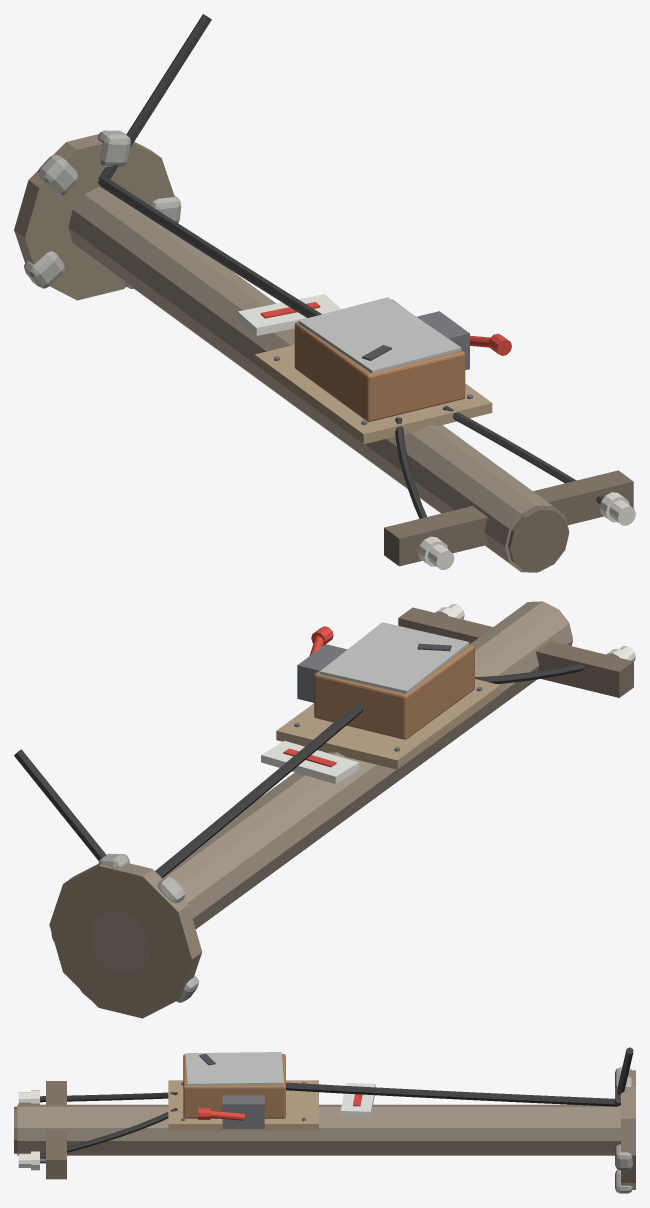
Rendered from extended_terminal.obj.
3 views of the same model, one above another, from view 1: azimuth 30°, elevation 25°; view 2: azimuth 150°, elevation 25°; view 3: azimuth 270°, elevation 25° (orthographic). The views are drawn at different scales.
Bounding box in the file's own units: 0.62 × 0.6309 × 2.06.
Materials: 1 (1 with a texture image).
